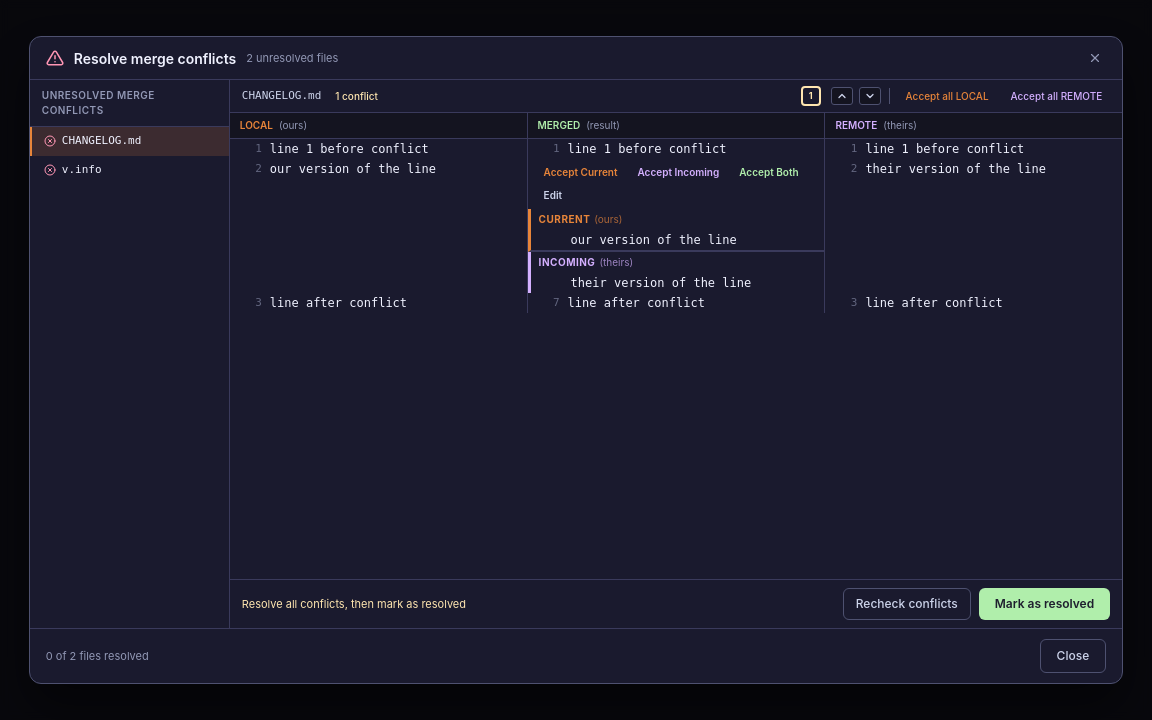
MergeConflictDialog › resolves conflict by clicking Accept Current and updates count
The image size is (1152, 720).
Expected: the text "1 conflict" is shown, [335,90,378,102]
Click the button "Accept Current" at (581, 172), box [536,163,626,182]
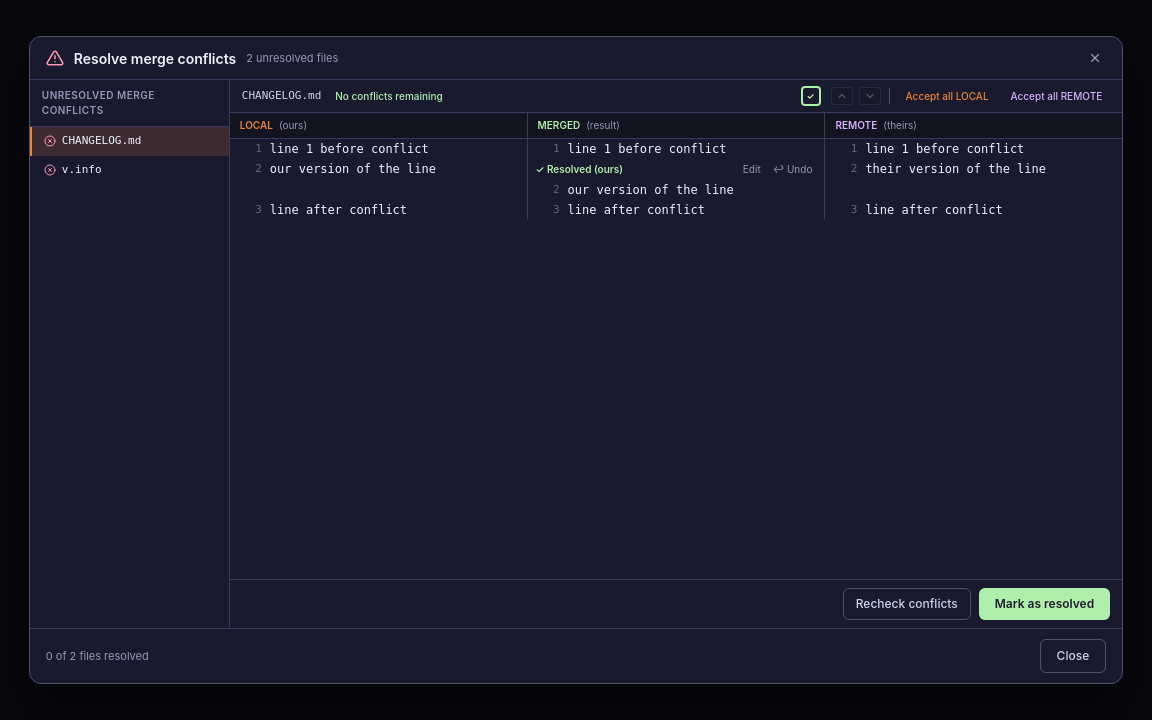
Expected: the text "No conflicts remaining" is shown, [329,88,449,104]
